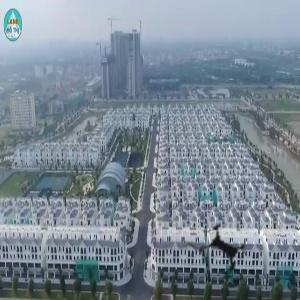drone: (172, 203, 269, 300)
